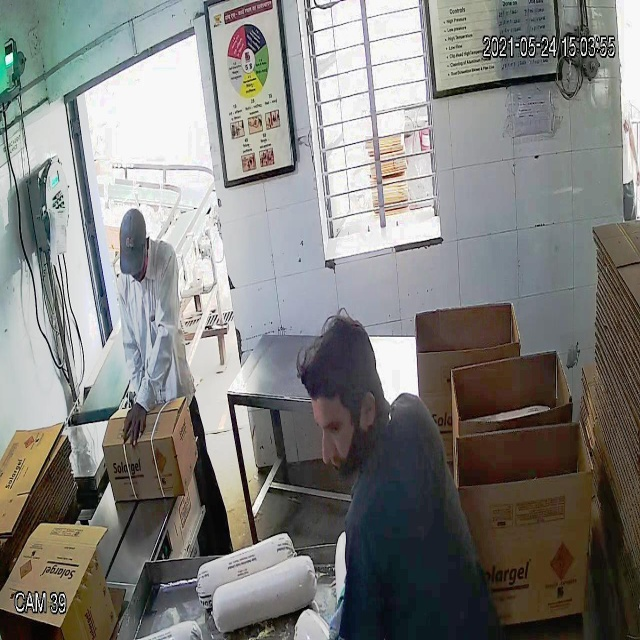Sin_gafas: (312, 409, 367, 443)
